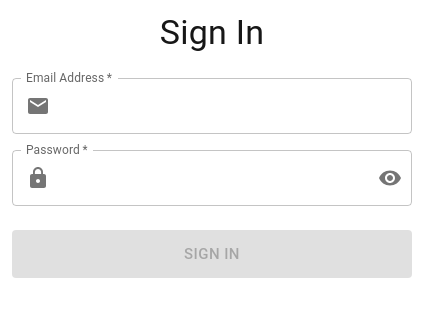
Scenario: EmailAuthForm › Form Validation › should show email validation error for invalid format
The image size is (429, 318).
Type "invalid-email" into the field labelled "Email Address" at (235, 106), box [58, 78, 412, 134]
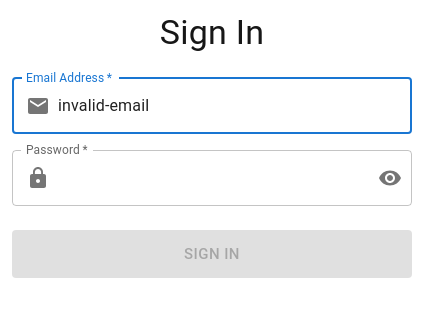
Press Tab
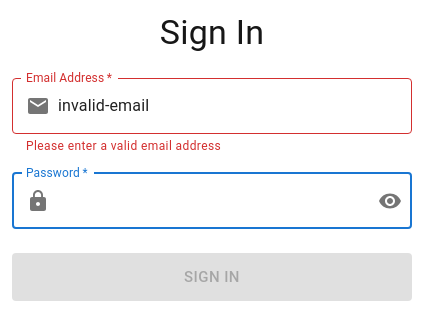
Expected: the text "Please enter a valid email address" is shown, [26, 139, 221, 153]
